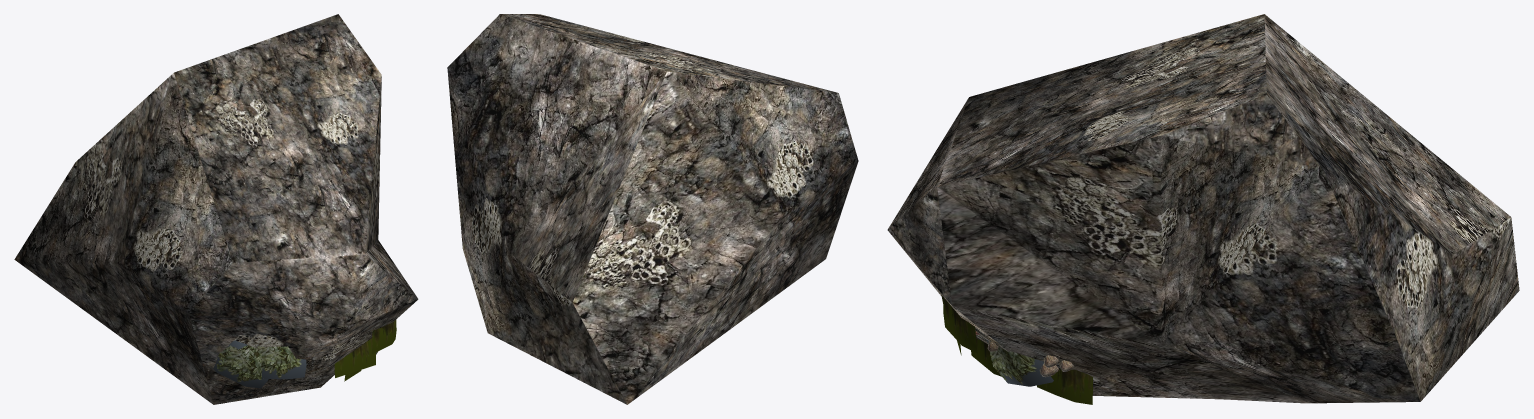
File: pir_m_prp_dvj_rock_c.fbx
3 views of the same model, side by side, from view 1: azimuth 30°, elevation 25°; view 2: azimuth 150°, elevation 25°; view 3: azimuth 270°, elevation 25° (orthographic). The views are drawn at different scales.
Parts seen in each view (by area): view 1: rock_3, pasted__pPlane5, pasted__pPlane6, pasted__seaweed8, pasted__seaweed7; view 2: rock_3; view 3: rock_3, pasted__pPlane4, pasted__seaweed10, pasted__seaweed7.
Boxes of the visible parts, bbox=[...] form: rock_3: bbox=[14, 14, 418, 404]; pasted__pPlane5: bbox=[213, 340, 268, 388]; pasted__pPlane6: bbox=[257, 346, 306, 379]; pasted__seaweed8: bbox=[334, 338, 375, 377]; pasted__seaweed7: bbox=[371, 320, 396, 354]; rock_3: bbox=[447, 14, 858, 404]; rock_3: bbox=[887, 14, 1519, 403]; pasted__pPlane4: bbox=[986, 339, 1053, 386]; pasted__seaweed10: bbox=[1037, 369, 1093, 404]; pasted__seaweed7: bbox=[941, 295, 977, 353].
Size of the model in its own units: 2425 by 2146 by 3650.
3 materials, 3 textured.
